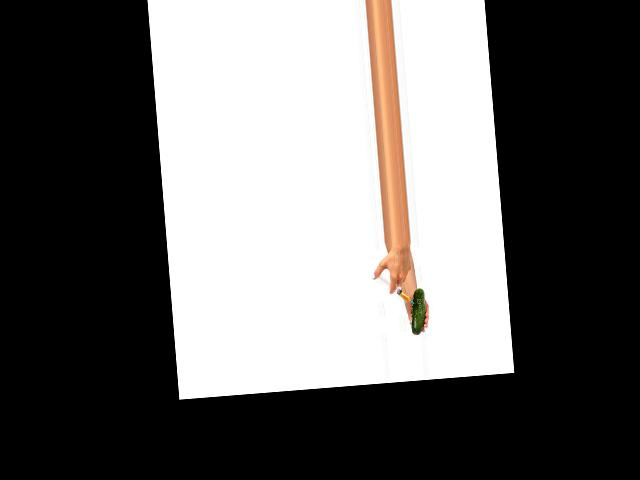cucumber: (409, 288, 427, 336)
